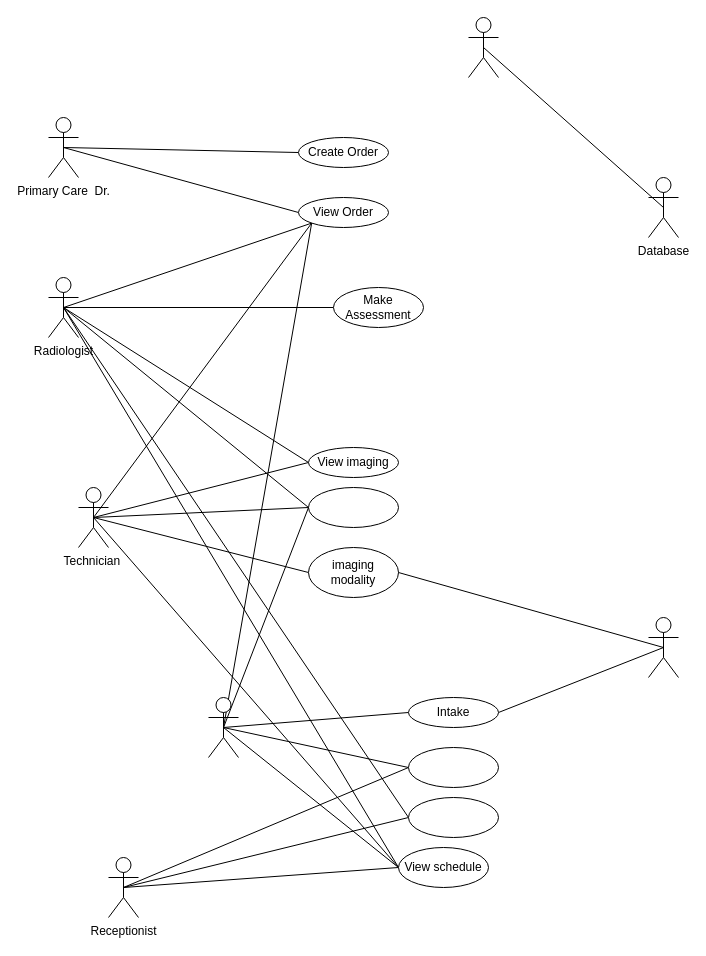
The diagram is 706 pixels wide and 956 high, and some of its shapes have lost their labels. Each missing label, with the centre of its shape:
Billing activities: the point at 453,767
Medical Assistant: the point at 223,727
Patient: the point at 663,647
System Administrator: the point at 483,47
Update Order: the point at 353,507
Update Schedule: the point at 453,817
